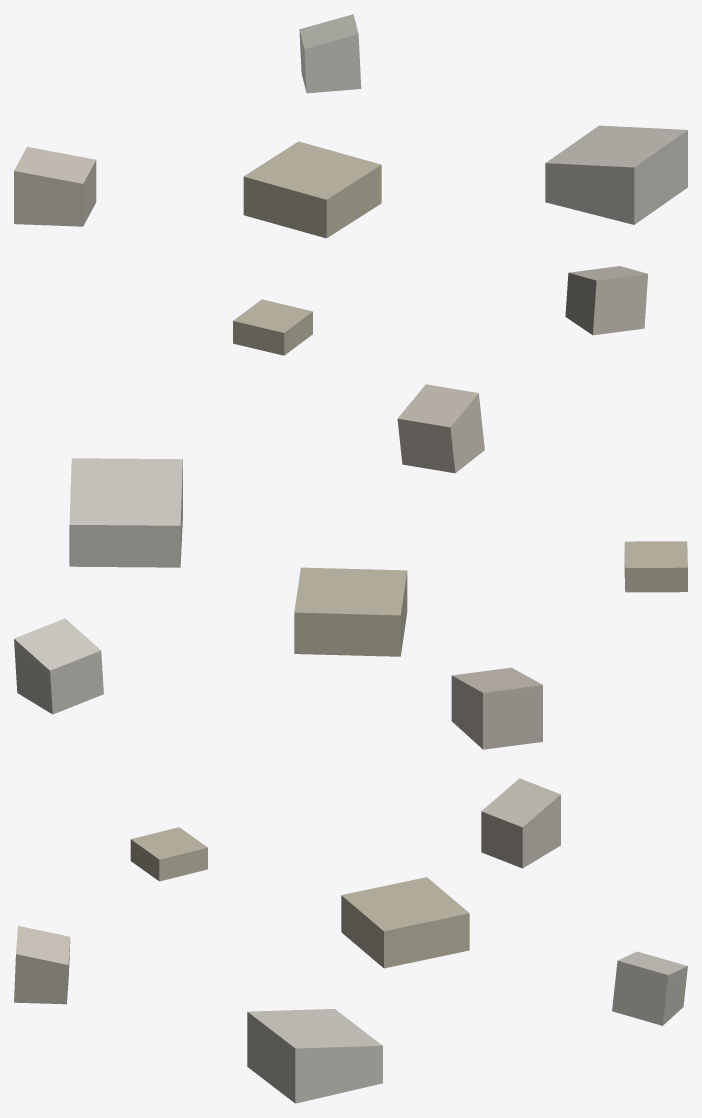
File: Rocks_Square_s_05.fbx
3 renders of one model, top to bottom at view 1: azimuth 30°, elevation 25°; view 2: azimuth 150°, elevation 25°; view 3: azimuth 270°, elevation 25°, orthographic. The views are drawn at different scales.
Visible parts, largest first — view 1: Rocks_Square_s_05; view 2: Rocks_Square_s_05; view 3: Rocks_Square_s_05.
Part boxes in pixels (x1=…): Rocks_Square_s_05: x1=14, y1=14, x2=687, y2=355; Rocks_Square_s_05: x1=14, y1=384, x2=687, y2=749; Rocks_Square_s_05: x1=14, y1=778, x2=687, y2=1103.
Bounding box in the file's own units: 71.08 × 8.55 × 77.54.
